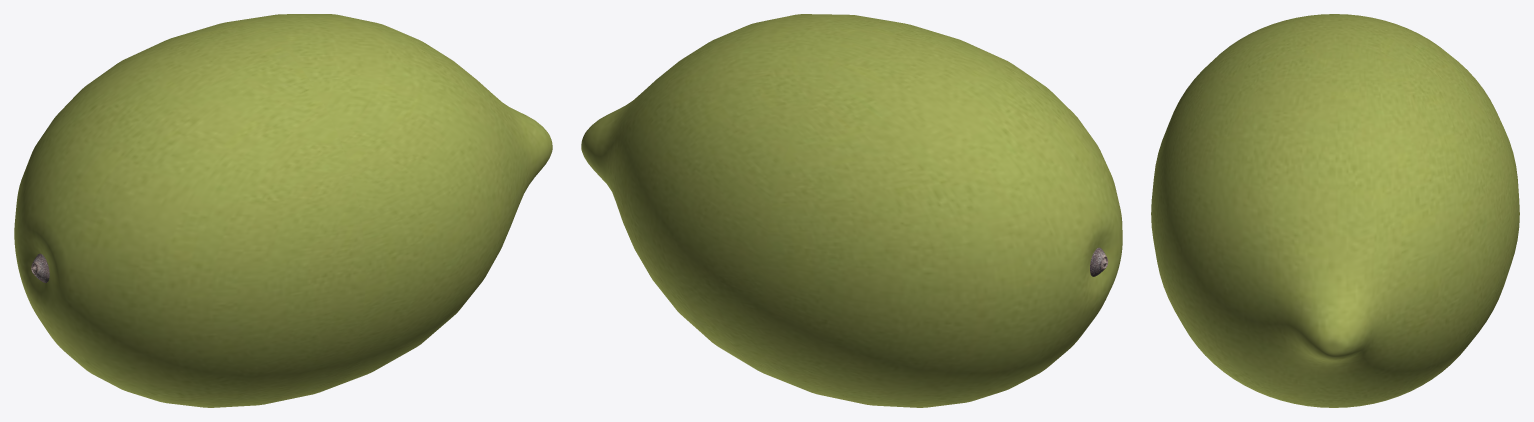
The model's file is SM_Lime.fbx.
The picture shows the model from 3 angles, left to right: view 1: azimuth 30°, elevation 25°; view 2: azimuth 150°, elevation 25°; view 3: azimuth 270°, elevation 25°; orthographic projection. The views are drawn at different scales.
Visible parts, largest first — view 1: LimePeel; view 2: LimePeel; view 3: LimePeel.
Part boxes in pixels (x1,y1,x2,y2): LimePeel: [14, 14, 552, 407]; LimePeel: [581, 14, 1122, 407]; LimePeel: [1151, 14, 1519, 407].
Size of what is drawn, in the model's own units: 9.09 by 5.82 by 5.77.
